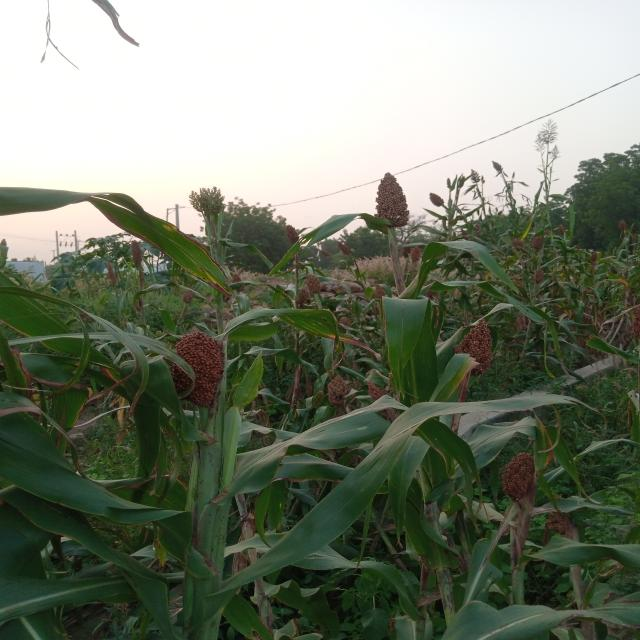RipeSorghum: (145, 322, 243, 405), (495, 452, 543, 505)
